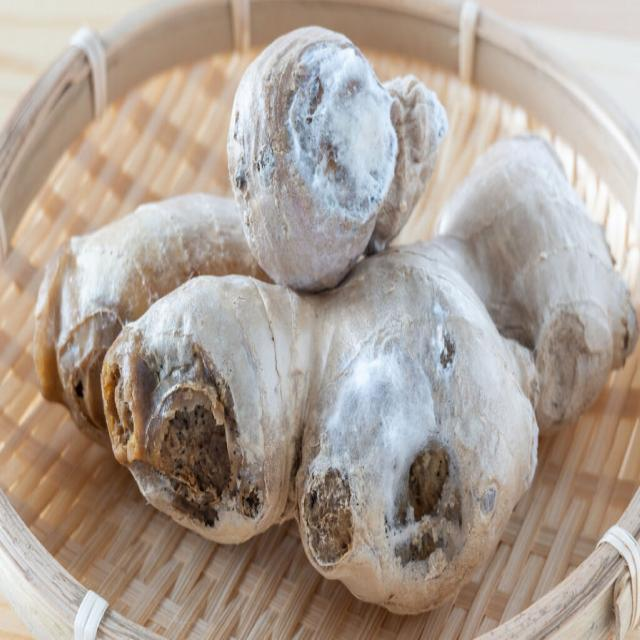ginger: (43, 41, 616, 579)
